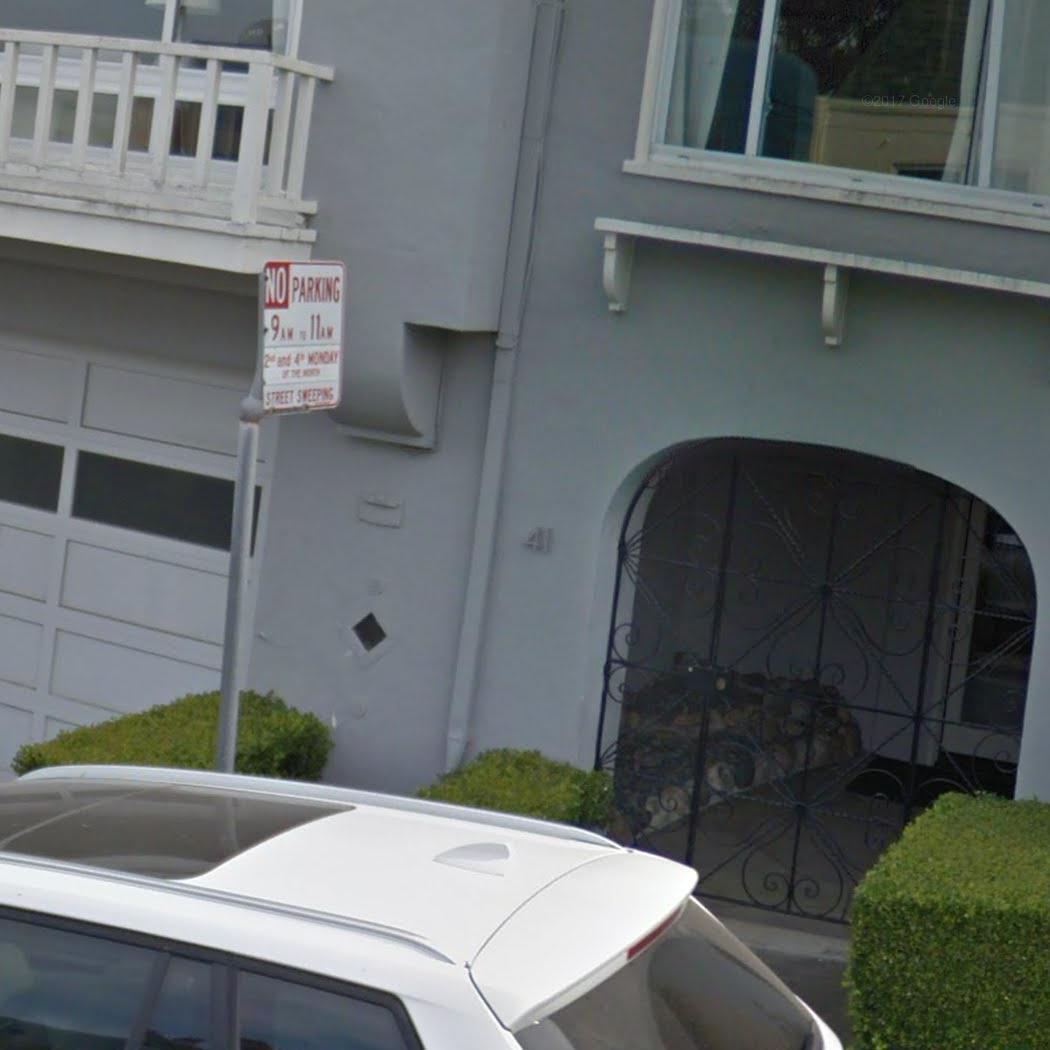No Parking: (256, 257, 348, 415)
